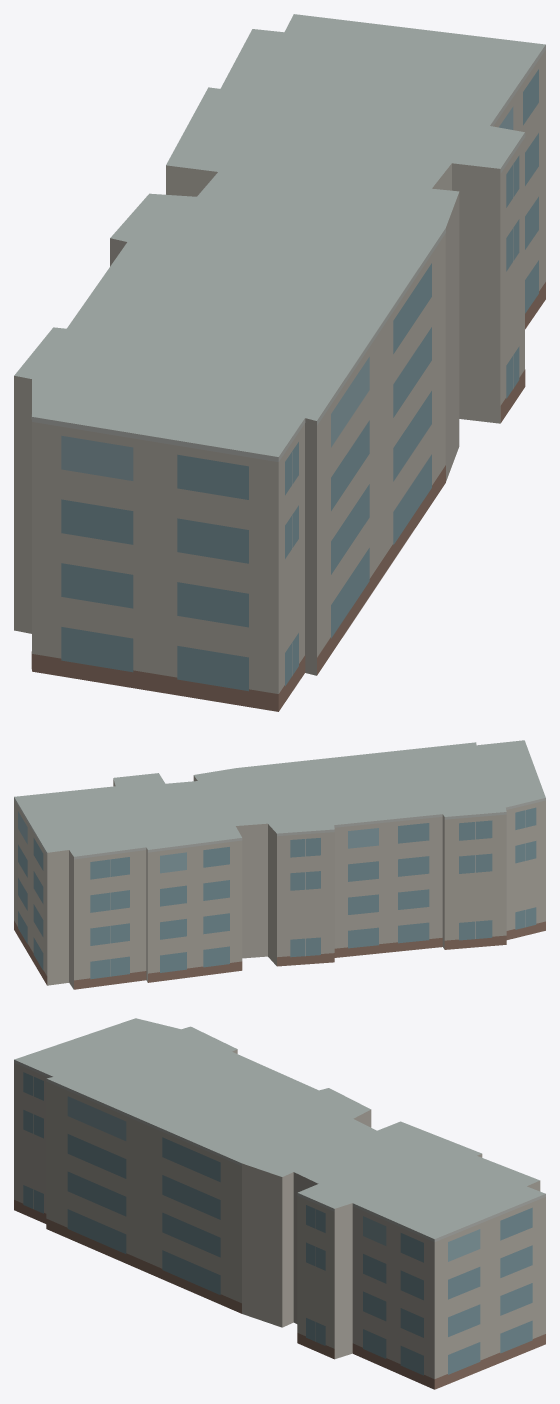
The model's file is survey-upis-32838478.glb.
3 views of the same model, one above another, from view 1: azimuth 30°, elevation 25°; view 2: azimuth 150°, elevation 25°; view 3: azimuth 270°, elevation 25° (orthographic). The views are drawn at different scales.
Visible parts, largest first — view 1: survey-upis-32838478.tmp; view 2: survey-upis-32838478.tmp; view 3: survey-upis-32838478.tmp.
Boxes of the visible parts, <box> form: survey-upis-32838478.tmp: <box>14,14,545,711</box>; survey-upis-32838478.tmp: <box>14,740,545,989</box>; survey-upis-32838478.tmp: <box>14,1018,545,1389</box>.
Size of the model in its own units: 38.44 by 12.2 by 39.08.
